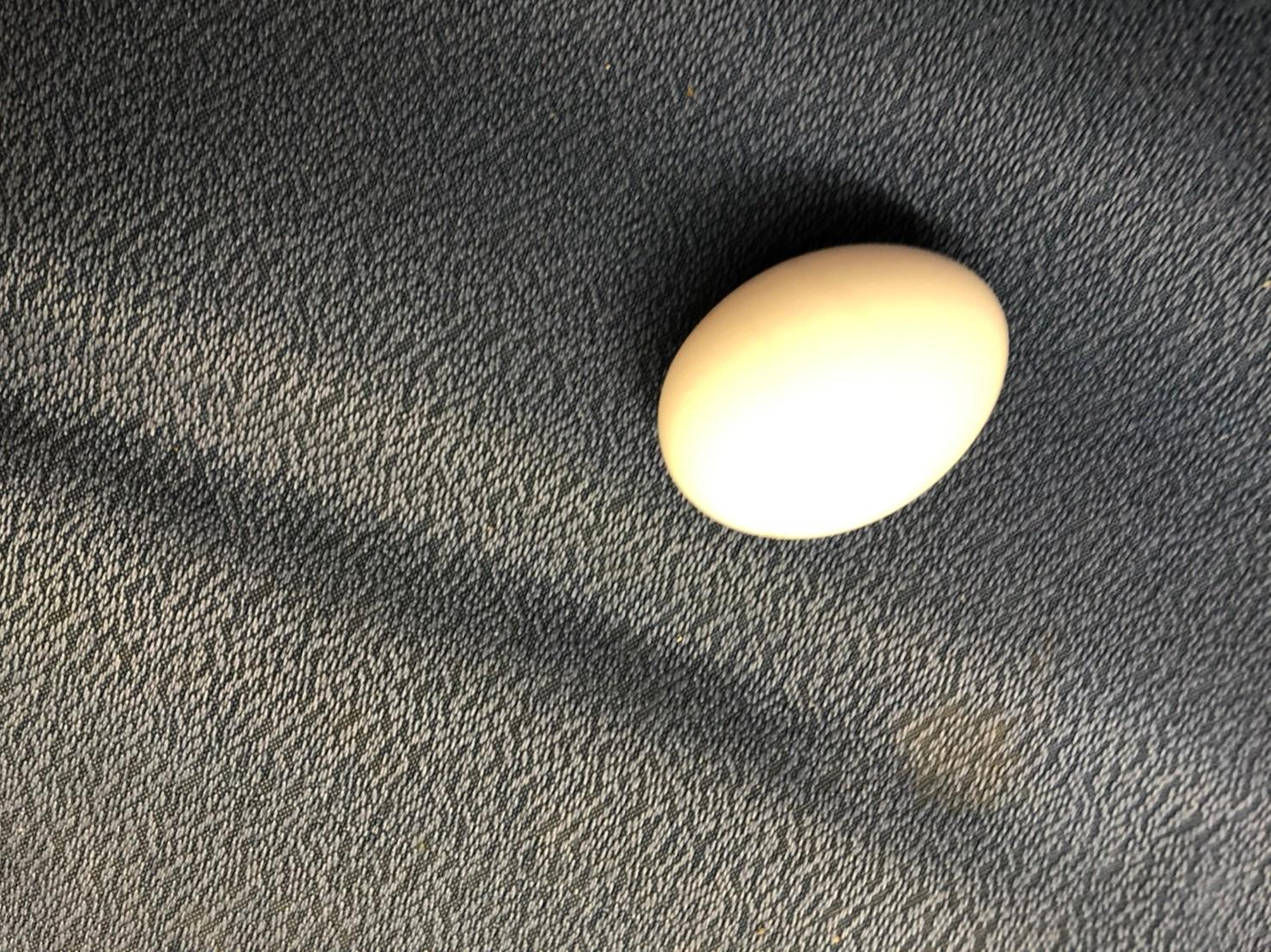egg: (649, 241, 1018, 541)
